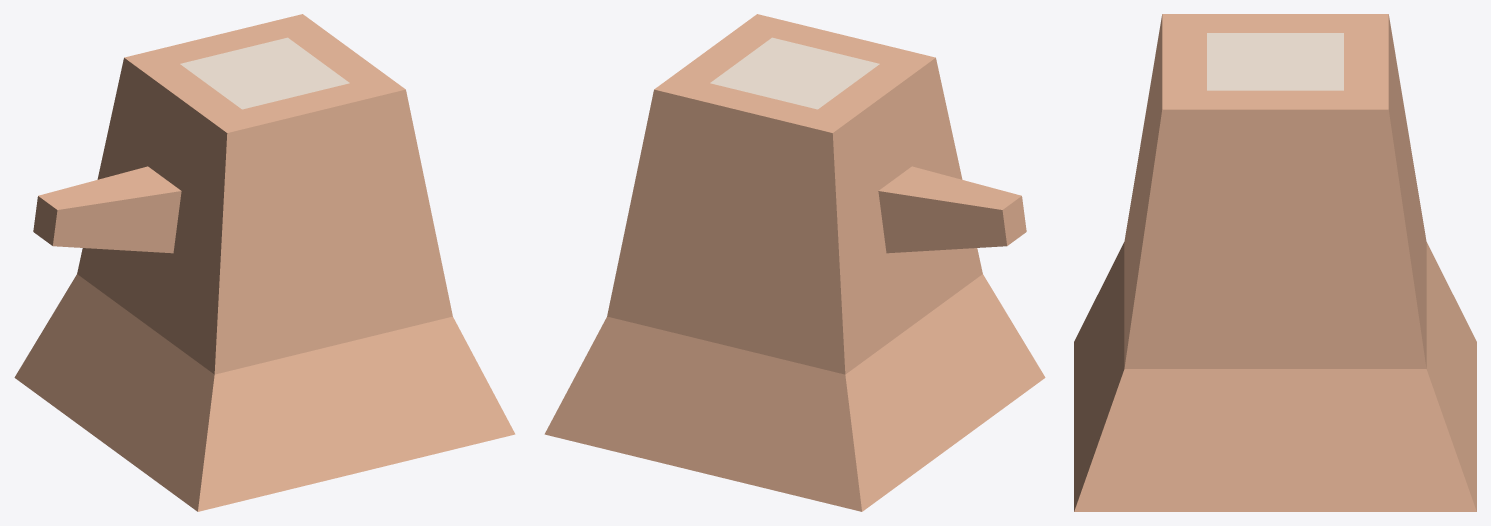
3 renders of one model, left to right at view 1: azimuth 30°, elevation 25°; view 2: azimuth 150°, elevation 25°; view 3: azimuth 270°, elevation 25°, orthographic. The views are drawn at different scales.
Visible parts, largest first — view 1: stump_square; view 2: stump_square; view 3: stump_square.
Boxes of the visible parts, bbox=[...] form: stump_square: bbox=[14, 14, 515, 511]; stump_square: bbox=[544, 14, 1045, 511]; stump_square: bbox=[1074, 14, 1476, 511].
Bounding box in the file's own units: 0.3596 × 0.3 × 0.3.
